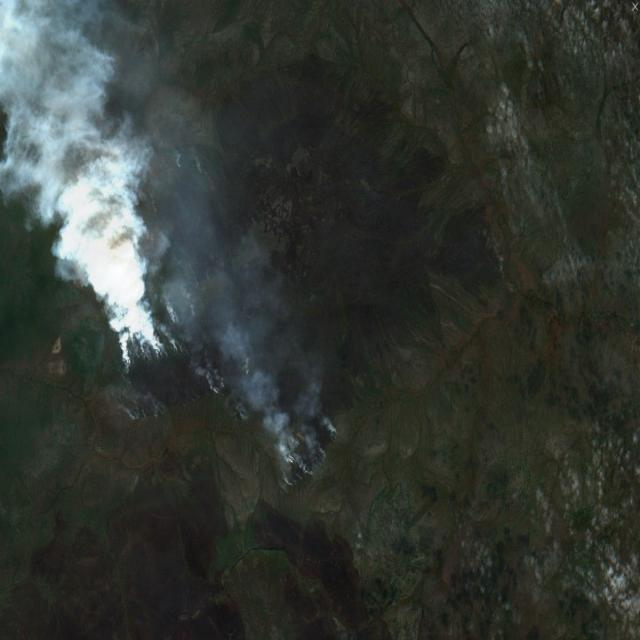fire: (110, 154, 232, 424), (267, 408, 343, 502)
